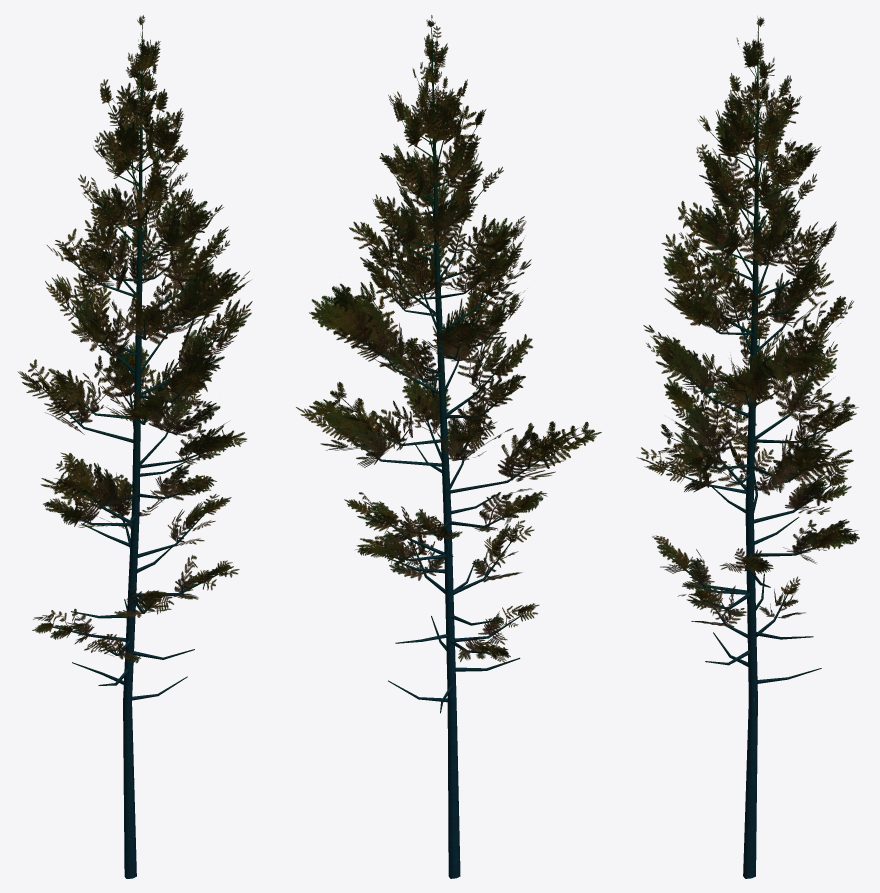
The model's file is Douglas_Fir_C.glb.
3 renders of one model, left to right at view 1: azimuth 30°, elevation 25°; view 2: azimuth 150°, elevation 25°; view 3: azimuth 270°, elevation 25°, orthographic.
Visible parts, largest first — view 1: C_LOD0; view 2: C_LOD0; view 3: C_LOD0.
Boxes of the visible parts, <box> form: C_LOD0: <box>17,15,252,878</box>; C_LOD0: <box>296,15,601,878</box>; C_LOD0: <box>636,16,859,878</box>.
Size of what is drawn, in the model's own units: 9.27 by 31.88 by 7.66.
2 materials, 2 textured.
